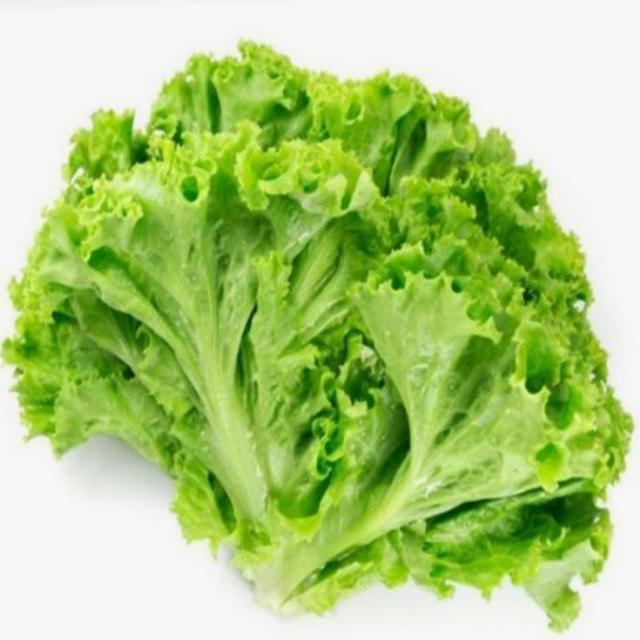lettuce: (4, 44, 631, 628)
